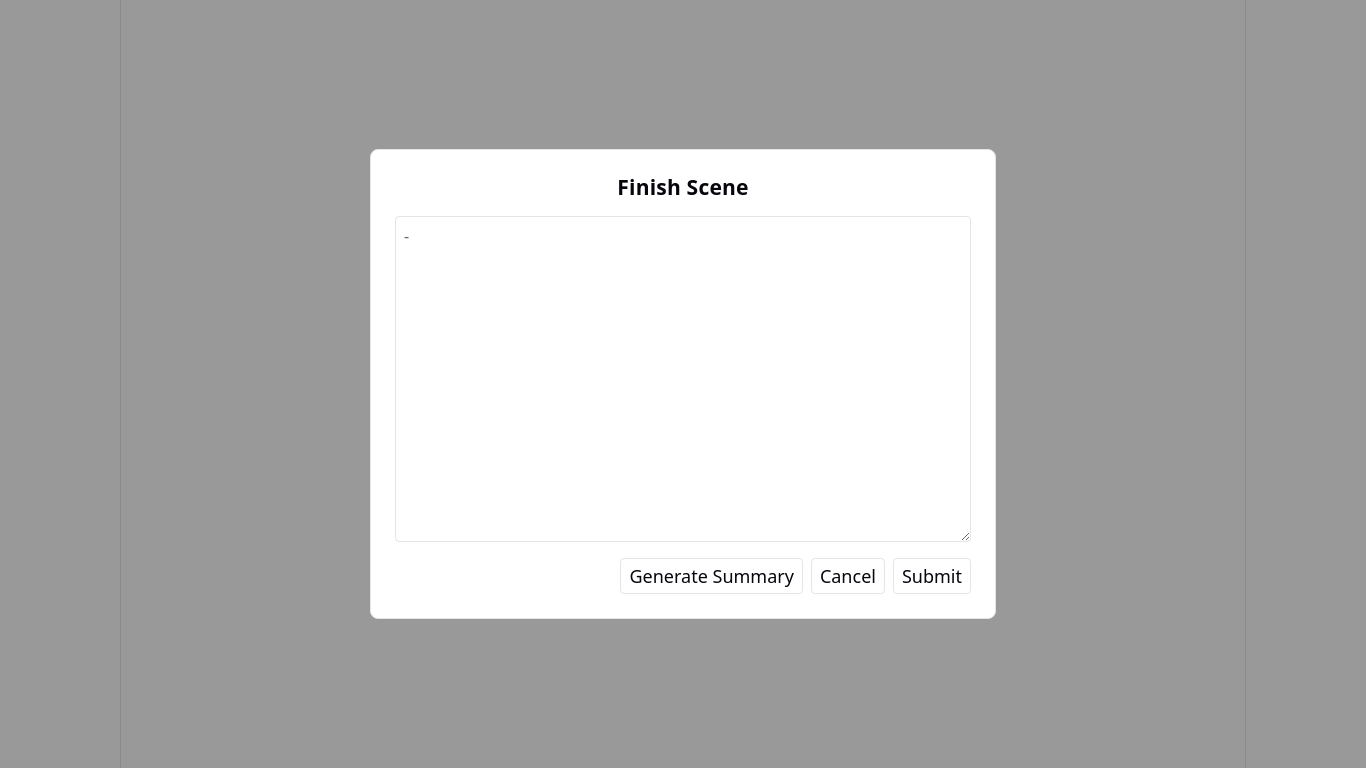
Test: FinishModal › clicking Submit with empty items shows validation error
Click the button "Submit": point(932, 576) [893,558,971,594]
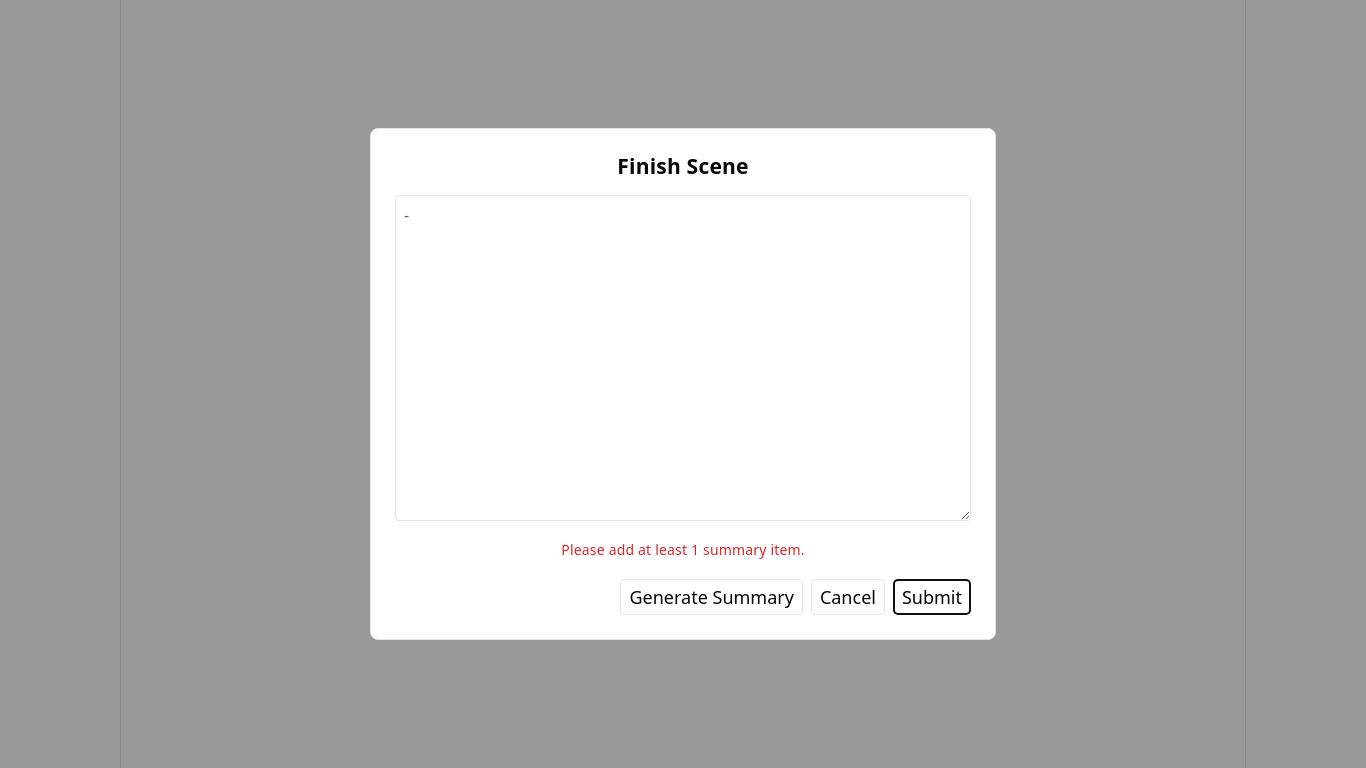
Check: the text "Please add at least 1 summary item." is shown, box [561,540,805,559]
